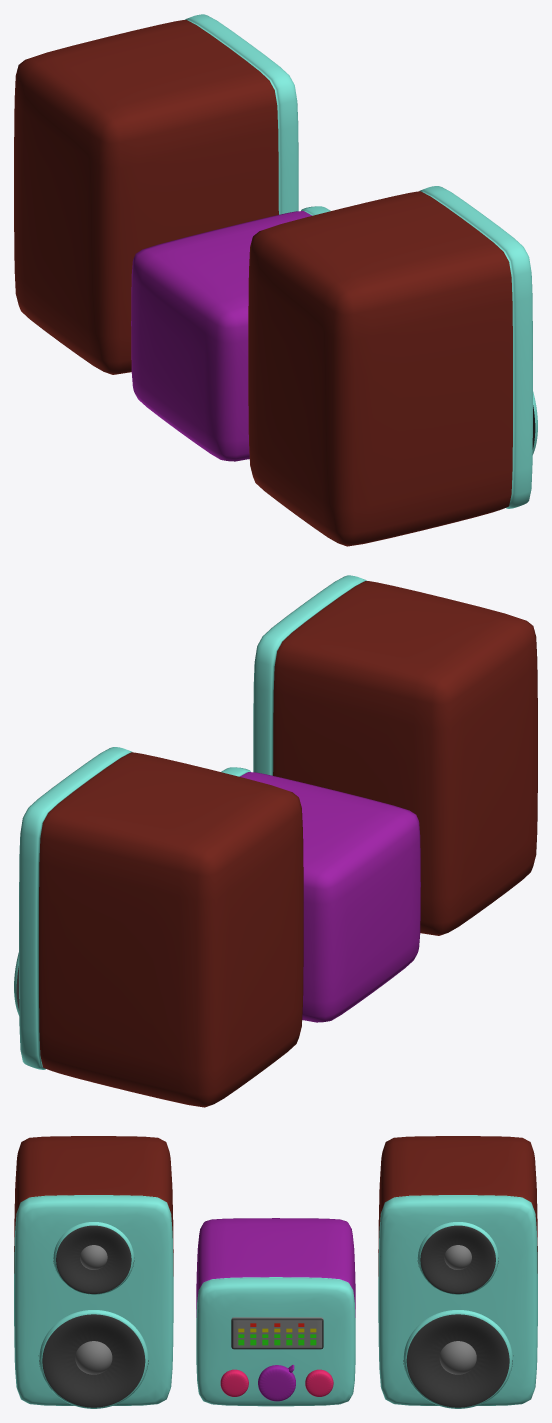
3 views of the same model, one above another, from view 1: azimuth 30°, elevation 25°; view 2: azimuth 150°, elevation 25°; view 3: azimuth 270°, elevation 25° (orthographic). The views are drawn at different scales.
Parts seen in each view (by area): view 1: stereo, resiver; view 2: stereo, resiver; view 3: stereo, resiver, speaker, tweeter, display, bass, volume.
Boxes of the visible parts, x1=… form: stereo: x1=14, y1=14, x2=532, y2=546; resiver: x1=131, y1=206, x2=330, y2=461; stereo: x1=19, y1=575, x2=537, y2=1107; resiver: x1=221, y1=767, x2=420, y2=1022; stereo: x1=14, y1=1136, x2=537, y2=1405; resiver: x1=196, y1=1218, x2=355, y2=1406; speaker: x1=38, y1=1310, x2=513, y2=1408; tweeter: x1=53, y1=1222, x2=498, y2=1294; display: x1=231, y1=1317, x2=323, y2=1349; bass: x1=220, y1=1369, x2=333, y2=1396; volume: x1=258, y1=1365, x2=295, y2=1401.
Bounding box in the file's own units: 2.89 × 3.31 × 7.6.
